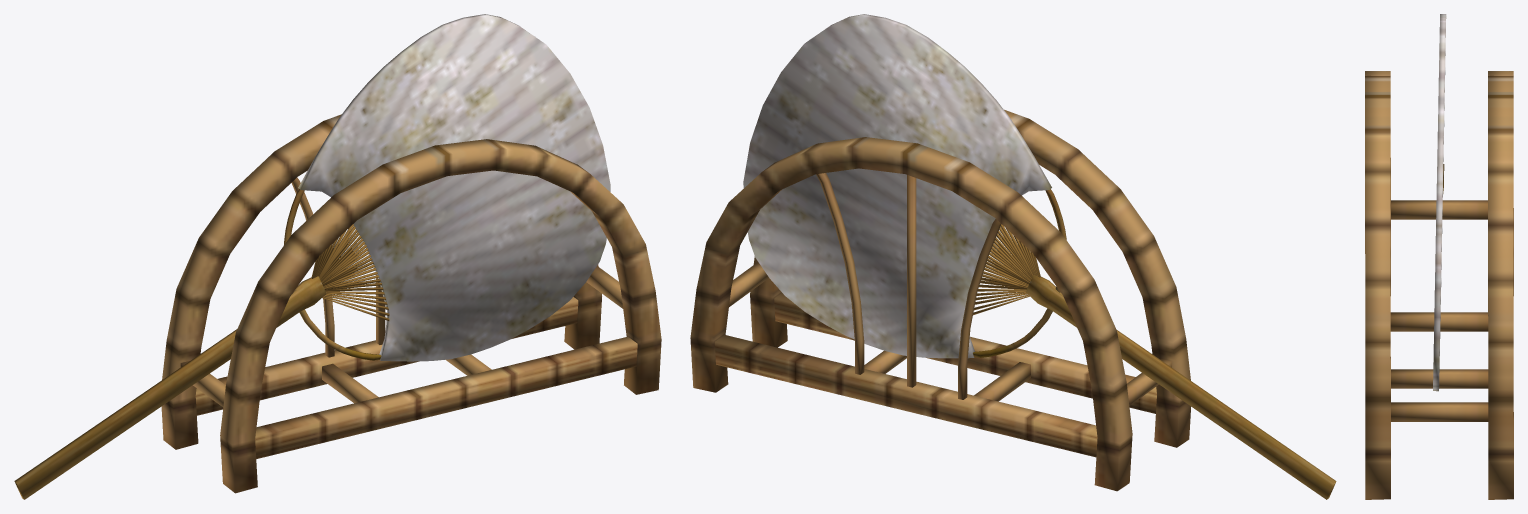
Rendered from Uchiwa1.c.fbx.
3 views of the same model, side by side, from view 1: azimuth 30°, elevation 25°; view 2: azimuth 150°, elevation 25°; view 3: azimuth 270°, elevation 25° (orthographic). The views are drawn at different scales.
Parts seen in each view (by area): view 1: Group 0; view 2: Group 0; view 3: Group 0.
Part boxes in pixels (bbox=[...]): Group 0: bbox=[14, 14, 661, 499]; Group 0: bbox=[690, 14, 1336, 499]; Group 0: bbox=[1365, 14, 1513, 499].
Size of the model in its own units: 46.77 by 28.04 by 9.57.
1 material, 1 textured.
